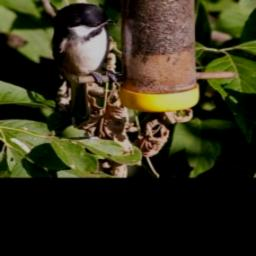Swallow: (50, 0, 122, 89)
